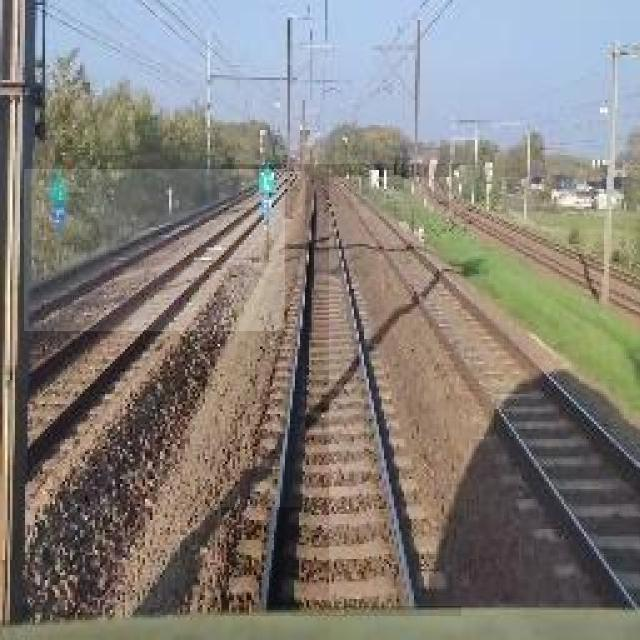rail: (331, 179, 640, 607), (223, 166, 462, 617), (21, 173, 306, 508), (26, 170, 286, 332)
